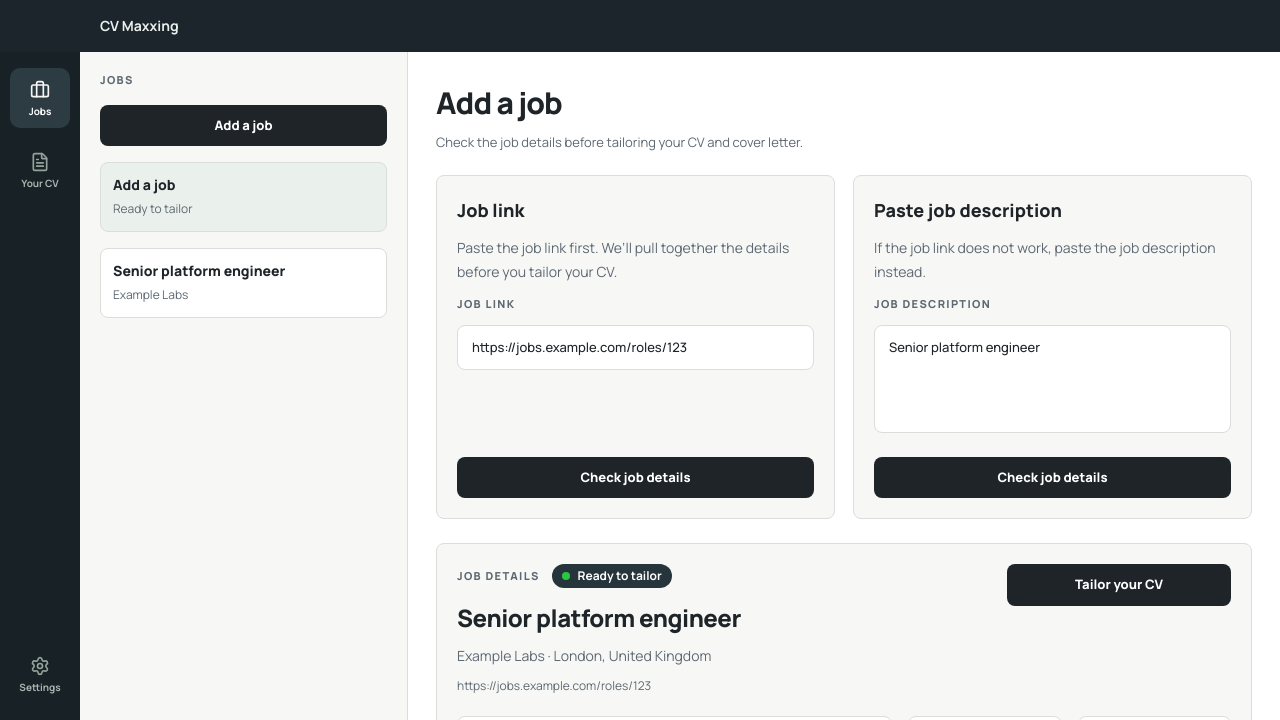
Scenario: deleting the selected saved tailored application returns to the current draft when it exists
Expected: the heading "Add a job" is shown, [436, 82, 562, 123]
Click the button with aria-label "Open senior platform engineer" at coordinates (244, 283), box [113, 261, 374, 305]
(page scrolled)
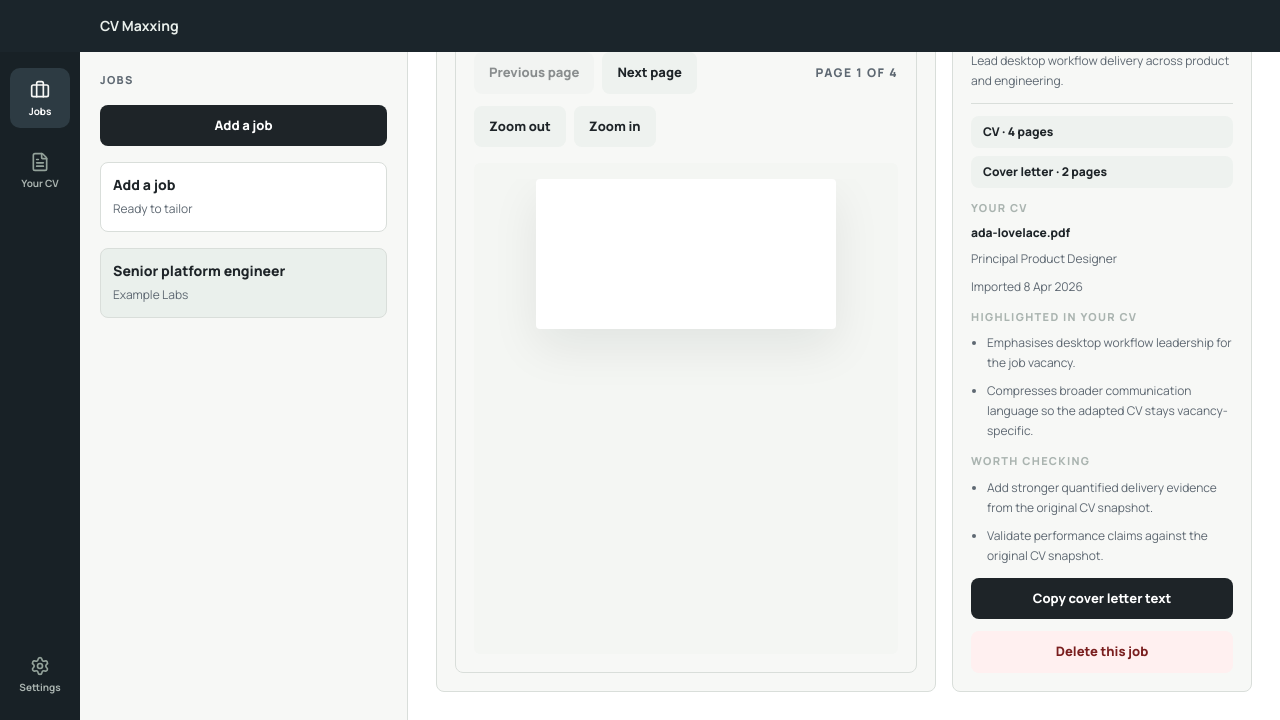
Click the button "Delete this job" at coordinates (1102, 652), box [971, 631, 1233, 673]
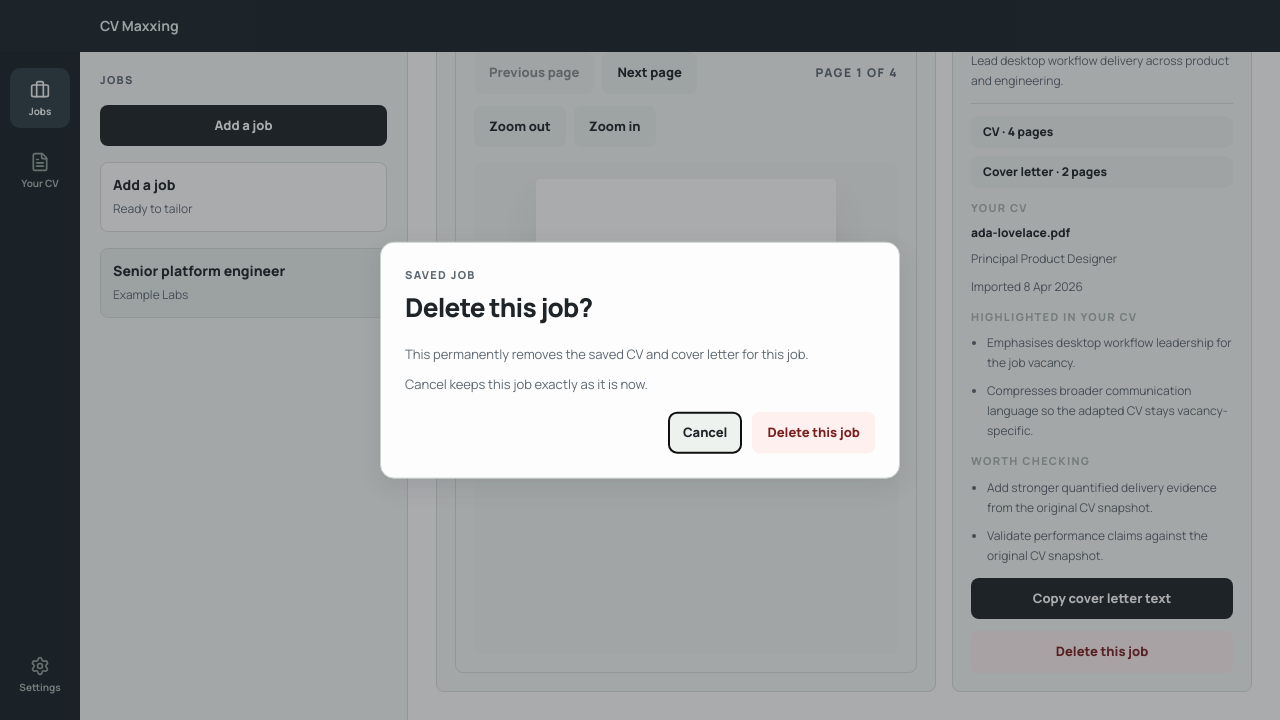
Expected: the dialog "Delete this job?" is shown, [380, 242, 900, 478]
Click the button "Delete this job" at coordinates (814, 433), box [752, 412, 875, 453]
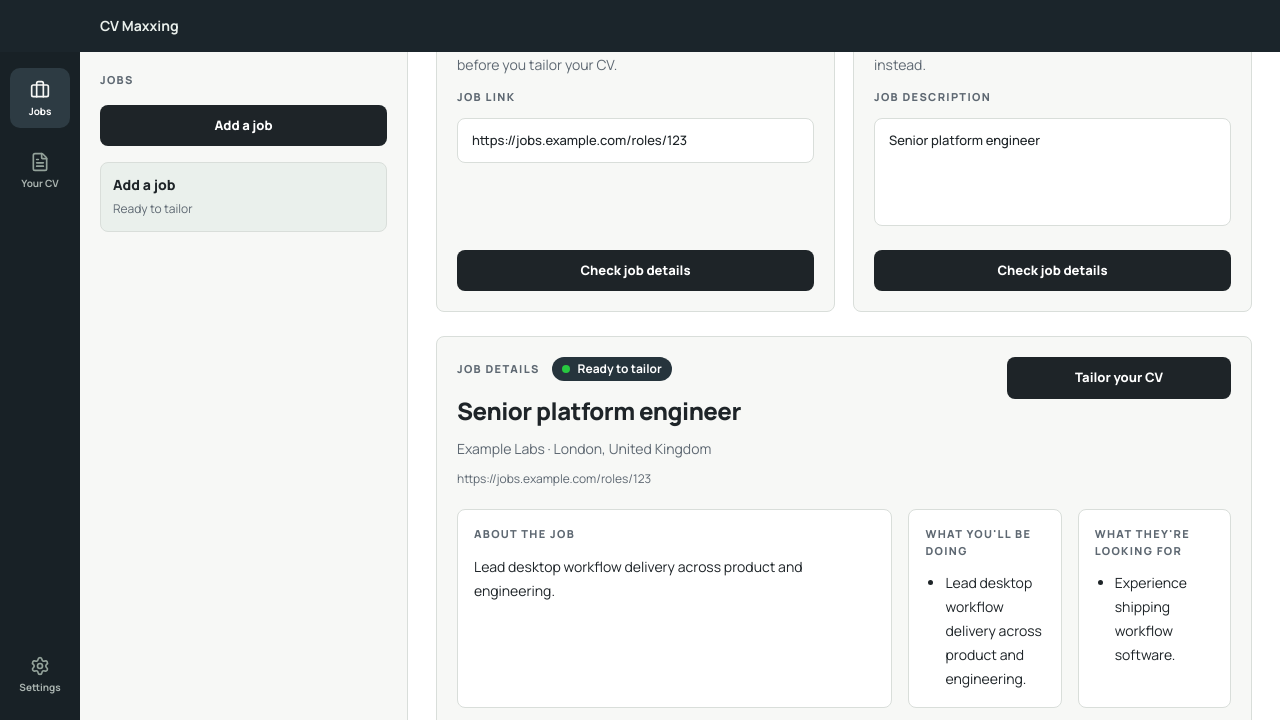
Expected: the field labelled "Job link" holds "https://jobs.example.com/roles/123", [457, 118, 814, 163]
Expected: the text box labelled "Job description" holds "Senior platform engineer", [874, 118, 1231, 226]
